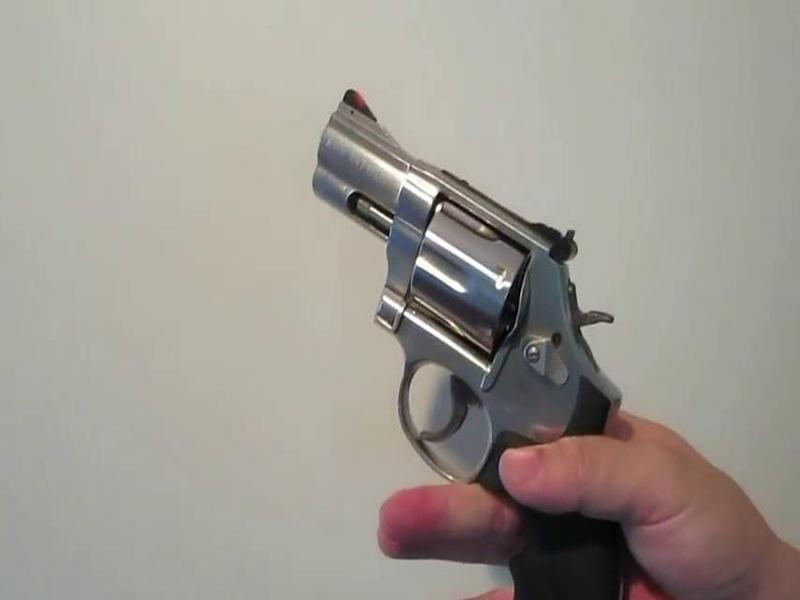Revolver: (301, 68, 663, 600)
